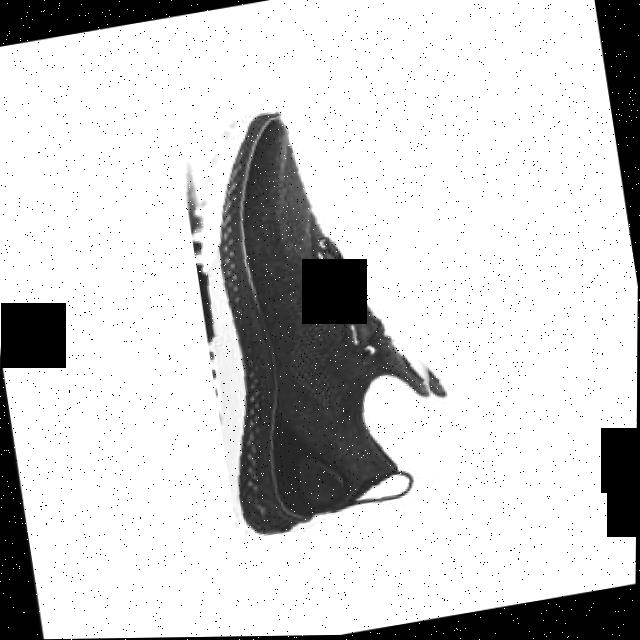shoe: (173, 87, 467, 544)
